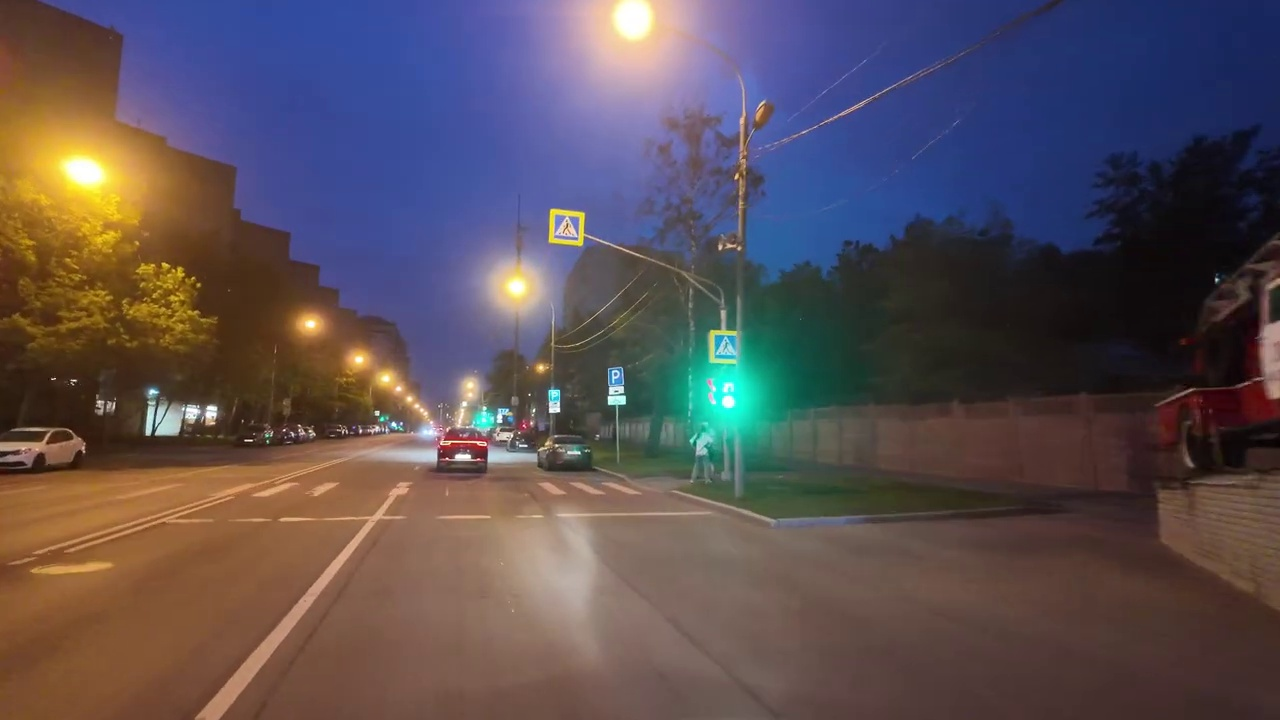acesa: (48, 149, 112, 202), (602, 2, 661, 51), (495, 267, 537, 309), (292, 310, 326, 340), (345, 347, 372, 373), (459, 376, 480, 399)
apagada: (748, 101, 773, 127)
